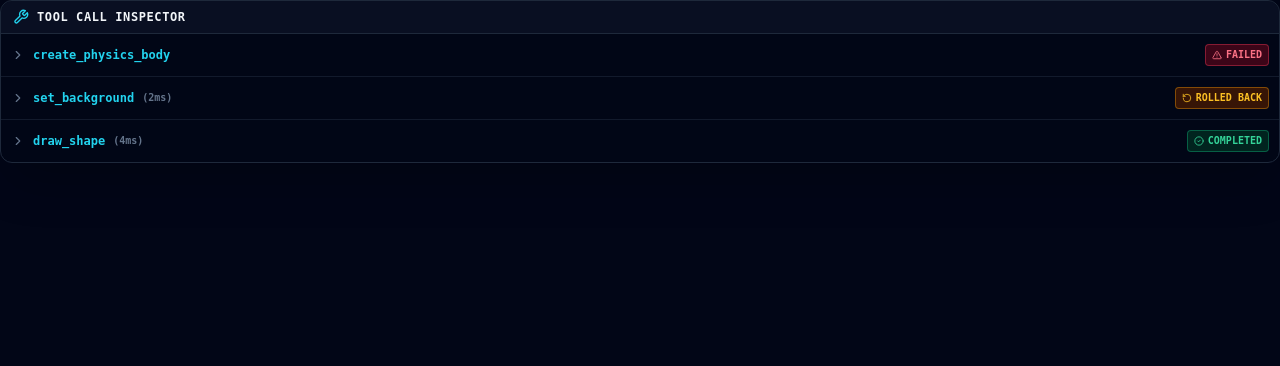
Test: ToolExecutionInspector Component › should toggle JSON details view when item header is clicked
Click the text "draw_shape". click: x=69, y=141
box: x1=33 y1=133 x2=105 y2=149
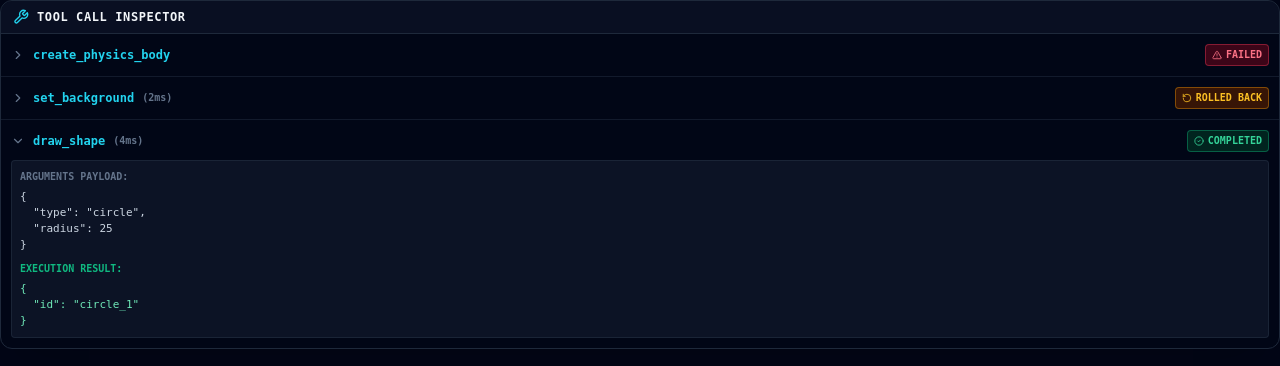
Expected: the element with test id "tool-details-item_1" is shown, x1=11 y1=160 x2=1269 y2=338
Expected: the element with test id "tool-details-item_1" shows "Arguments Payload", x1=20 y1=171 x2=128 y2=182
Expected: the element with test id "tool-details-item_1" shows "circle", x1=20 y1=190 x2=146 y2=251
